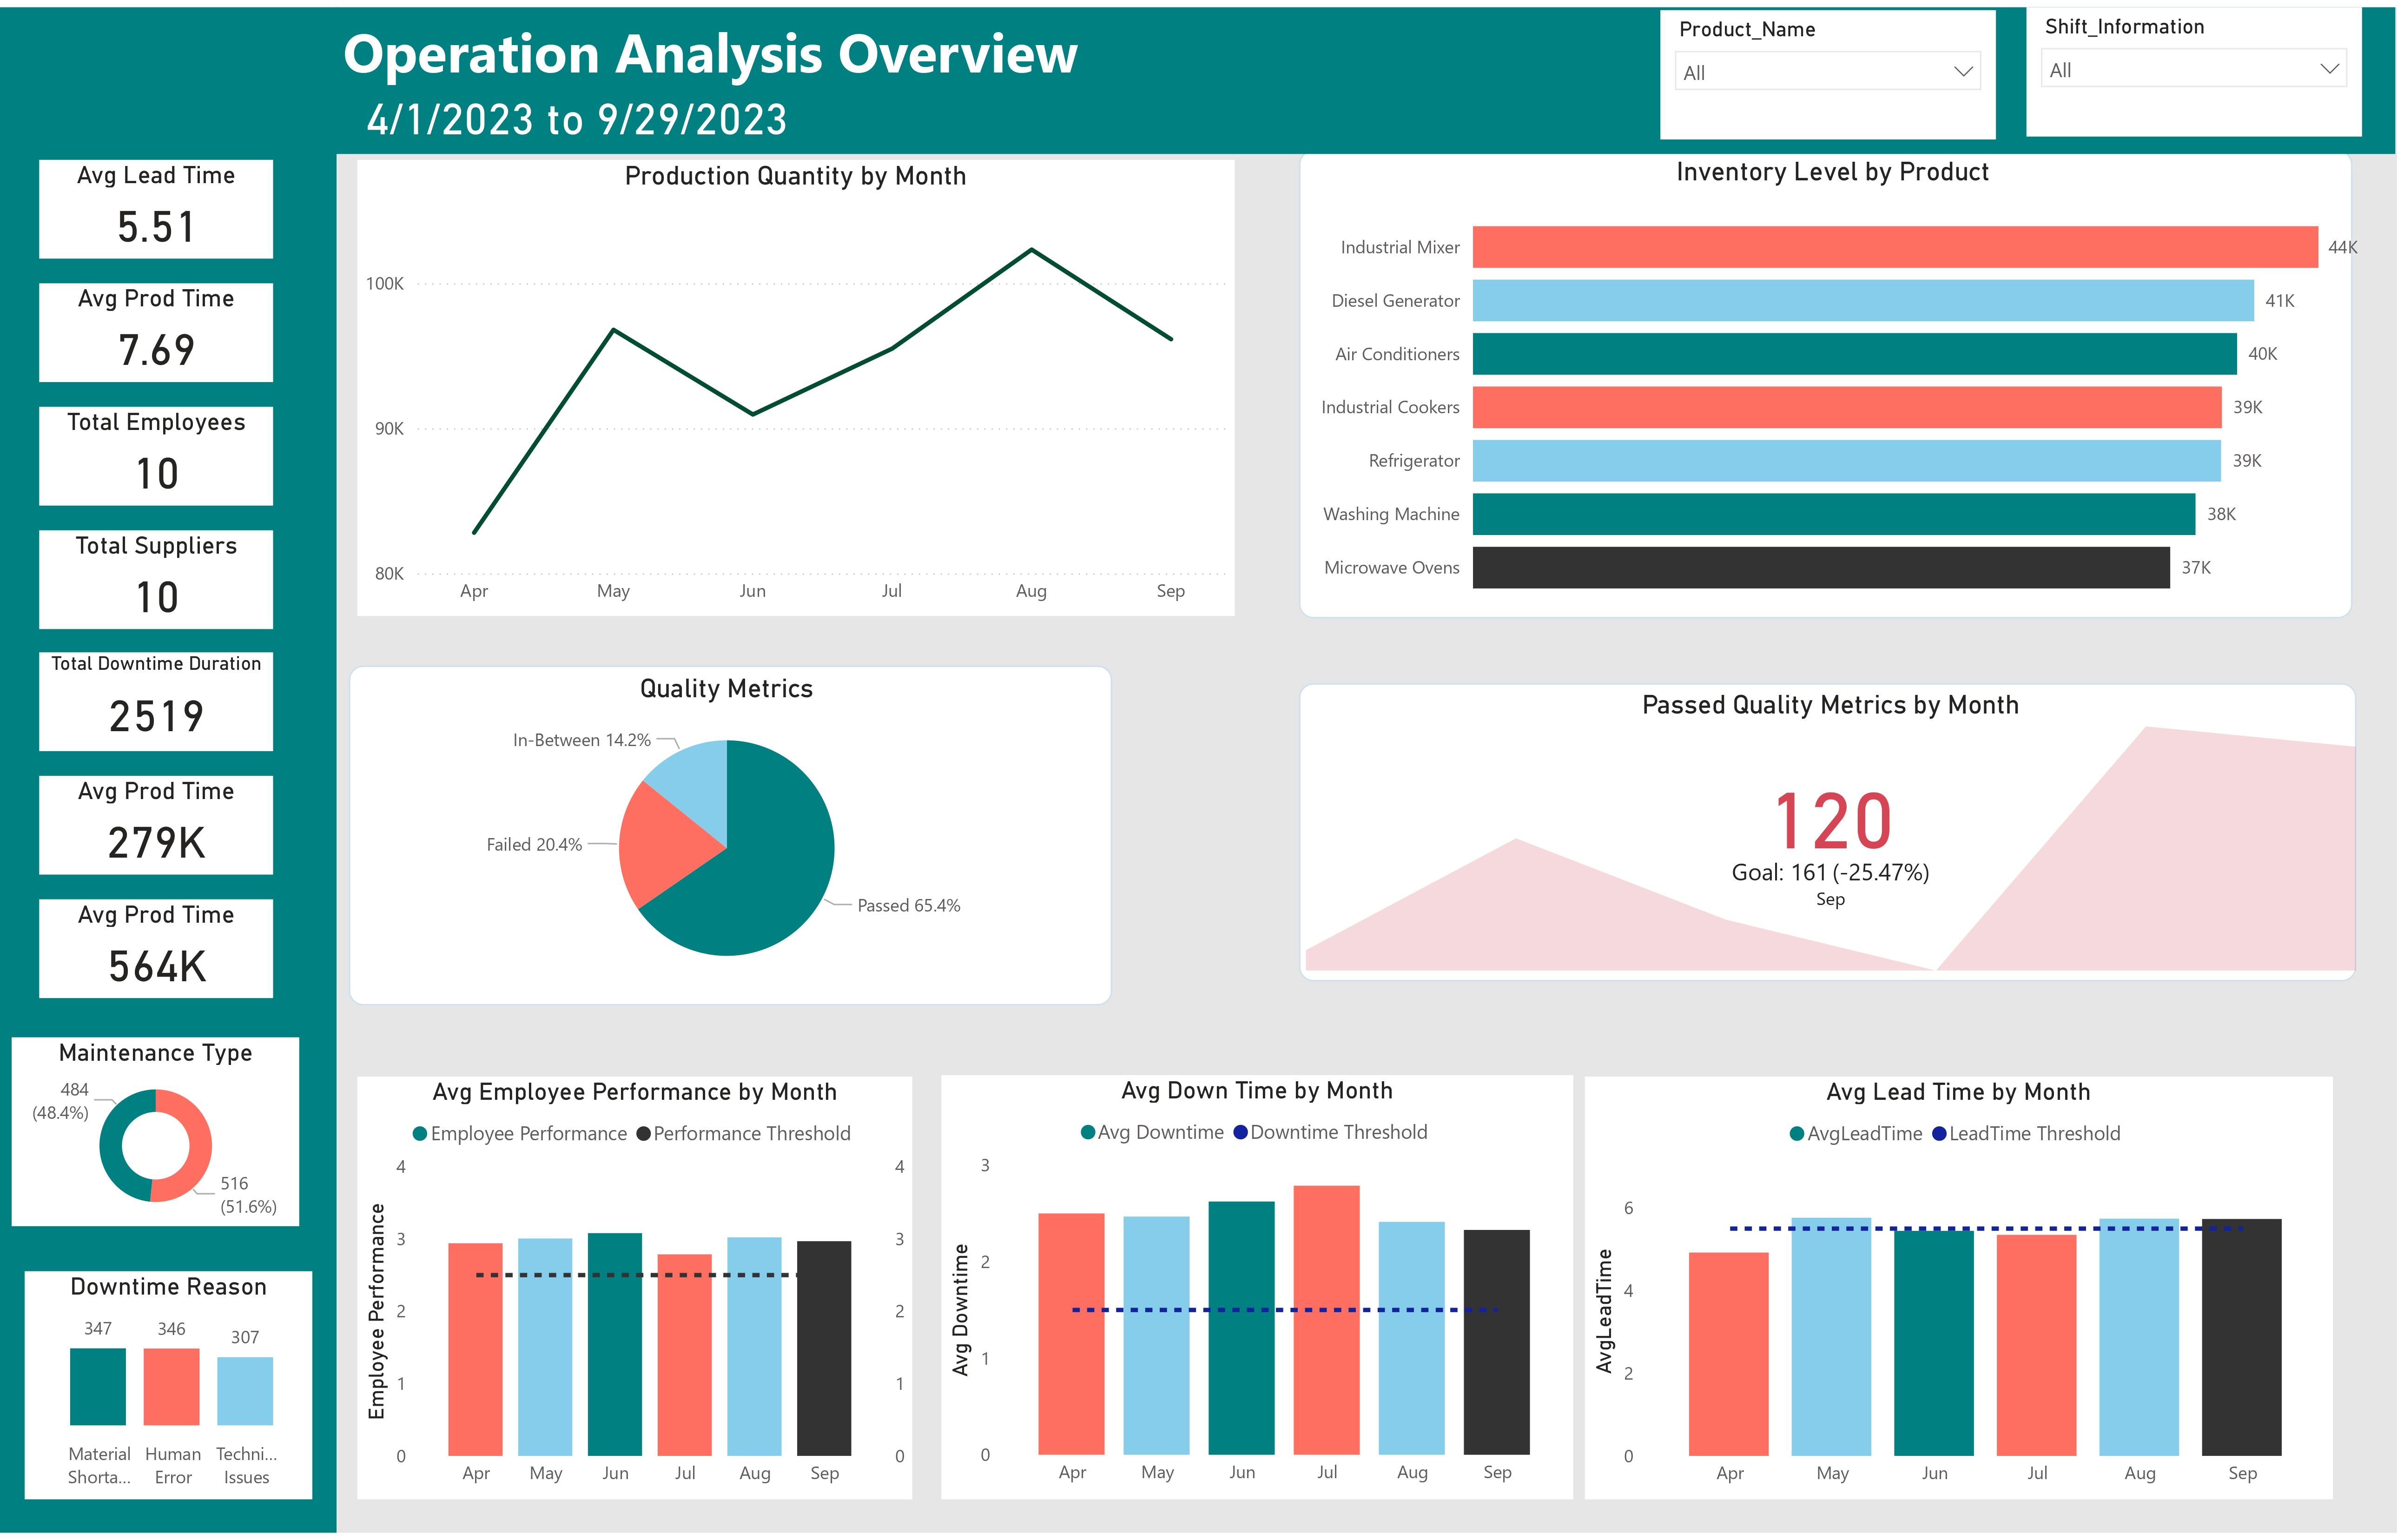

The dashboard page shown, as its layout file describes it:
{"tool":"powerbi","page":{"name":"Overview","canvas":[1650,1050],"ordinal":0},"visuals":[{"type":"shape","box":[231.7,445,541.7,250],"z":0},{"type":"shape","box":[885.7,90,741.4,338.6],"z":1000},{"type":"shape","box":[885.7,457.1,744.3,221.4],"z":2000},{"type":"shape","box":[231.5,0,1417.9,101.3],"z":3000},{"type":"shape","box":[0,0,231.7,1050.2],"z":4000},{"type":"textbox","box":[231.5,0,634.5,64.1],"z":5000},{"type":"card","fields":{"Values":["Measures Table.Date Range"]},"box":[231.5,47.5,332.8,53.7],"z":6000},{"type":"lineChart","title":"Production Quantity by Month","fields":{"Category":["Date Table.Month Name"],"Y":["Sum(Operations Data.Production_Quantity)"]},"box":[246,105.4,603.5,314.2],"z":7000},{"type":"clusteredBarChart","title":"Inventory Level by Product","fields":{"Y":["Sum(Operations Data.Quantity_in_Stock)"],"Category":["Product Data.Product_Name"]},"box":[896,102,732,318],"z":8000},{"type":"pieChart","title":"Quality Metrics","fields":{"Y":["Measures Table.Total"],"Category":["Operations Data.Quality_Metrics"]},"box":[246.7,458.3,506.7,220],"z":9000},{"type":"kpi","title":"Passed Quality Metrics by Month","fields":{"Goal":["Measures Table.Target"],"TrendLine":["Date Table.Month Name"],"Indicator":["Measures Table.PassedMetrics"]},"box":[894.3,468.6,732.9,198.6],"z":10000},{"type":"lineStackedColumnComboChart","title":"Avg Employee Performance by Month","fields":{"Y":["Measures Table.AverageRating"],"Category":["Date Table.Month Name"],"Y2":["Measures Table.Performance Threshold"]},"box":[246,735.8,382.4,291.4],"z":11000},{"type":"lineStackedColumnComboChart","title":"Avg Down Time by Month","fields":{"Category":["Date Table.Month Name"],"Y2":["Measures Table.Downtime Threshold"],"Y":["Measures Table.Avg Downtime"]},"box":[648.3,735,435,291.7],"z":12000},{"type":"lineStackedColumnComboChart","title":"Avg Lead Time by Month","fields":{"Category":["Date Table.Month Name"],"Y":["Measures Table.AvgLeadTime"],"Y2":["Measures Table.LeadTime Threshold"]},"box":[1091.3,735.8,514.7,291.4],"z":13000},{"type":"columnChart","title":"Downtime Reason","fields":{"Category":["Operations Data.Downtime_Reason"],"Y":["Measures Table.Total"]},"box":[16.5,870.2,198.4,157.1],"z":14000},{"type":"donutChart","title":"Maintenance Type","fields":{"Y":["Measures Table.Total"],"Category":["Operations Data.Maintenance_Type"]},"box":[8.3,709,198.4,130.2],"z":15000},{"type":"slicer","fields":{"Values":["Product Data.Product_Name"]},"box":[1143,2.1,231.5,88.9],"z":16000},{"type":"slicer","fields":{"Values":["Employee Data.Shift_Information"]},"box":[1395.2,0,231.5,88.9],"z":17000},{"type":"cardVisual","fields":{"Data":["Measures Table.AvgLeadTime","Measures Table.AvgProdTime","Measures Table.Total Emp","Measures Table.Total Suppliers","Measures Table.Total Downtime Duration","Measures Table.TotalQuantityInStock","Measures Table.Total Production Quantity"]},"box":[8.3,88.9,206.7,605.6],"z":18000}]}

Visuals, with their boxes in screenshot pixels (x1, y1, x2, y2), scaled from the page's 1650x1050 canvas onto the 2397x1540 screenshot:
shape: [x1=337, y1=653, x2=1123, y2=1019]
shape: [x1=1287, y1=132, x2=2364, y2=628]
shape: [x1=1287, y1=670, x2=2368, y2=995]
shape: [x1=337, y1=0, x2=2396, y2=149]
shape: [x1=0, y1=0, x2=337, y2=1540]
textbox: [x1=337, y1=0, x2=1258, y2=94]
card - Measures Table.Date Range: [x1=337, y1=70, x2=820, y2=148]
"Production Quantity by Month" lineChart: [x1=357, y1=155, x2=1234, y2=615]
"Inventory Level by Product" clusteredBarChart: [x1=1301, y1=150, x2=2365, y2=616]
"Quality Metrics" pieChart: [x1=358, y1=672, x2=1095, y2=995]
"Passed Quality Metrics by Month" kpi: [x1=1299, y1=687, x2=2364, y2=978]
"Avg Employee Performance by Month" lineStackedColumnComboChart: [x1=357, y1=1079, x2=913, y2=1507]
"Avg Down Time by Month" lineStackedColumnComboChart: [x1=942, y1=1078, x2=1574, y2=1506]
"Avg Lead Time by Month" lineStackedColumnComboChart: [x1=1585, y1=1079, x2=2333, y2=1507]
"Downtime Reason" columnChart: [x1=24, y1=1276, x2=312, y2=1507]
"Maintenance Type" donutChart: [x1=12, y1=1040, x2=300, y2=1231]
slicer - Product Data.Product_Name: [x1=1660, y1=3, x2=1997, y2=133]
slicer - Employee Data.Shift_Information: [x1=2027, y1=0, x2=2363, y2=131]
cardVisual - Measures Table.AvgLeadTime x Measures Table.AvgProdTime: [x1=12, y1=131, x2=312, y2=1018]
